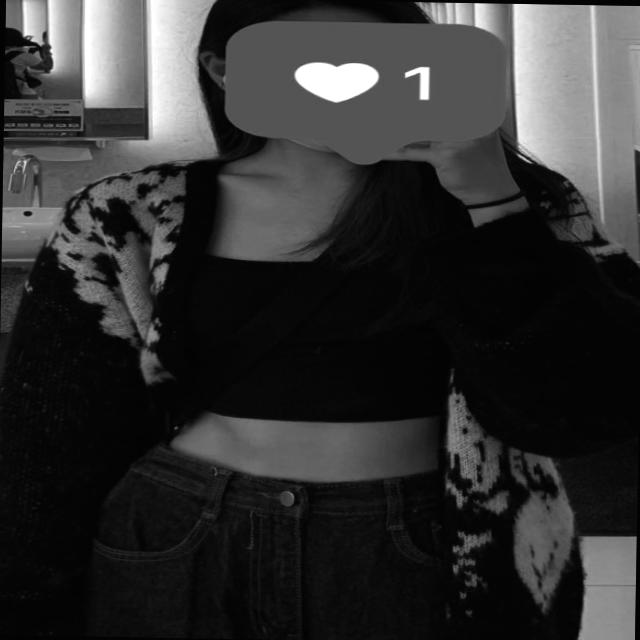cardigan: (0, 143, 640, 636)
denimpants: (69, 438, 500, 640)
